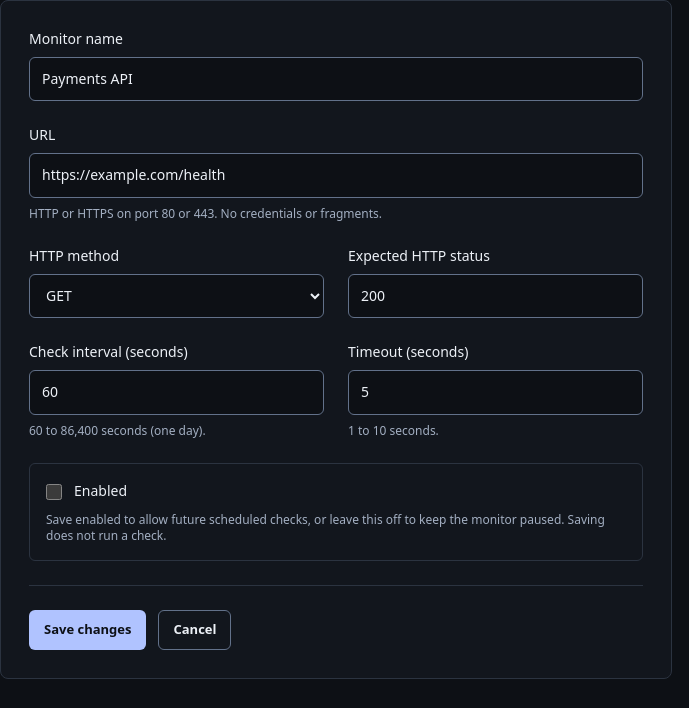
Test: explains quota failures without navigating or losing input
This screenshot has width=689, height=708.
What coordinates should you click on to do the following:
click the checkbox labelled "Enabled"
I would click on:
 (54, 492)
Its box is [46,484,62,500].
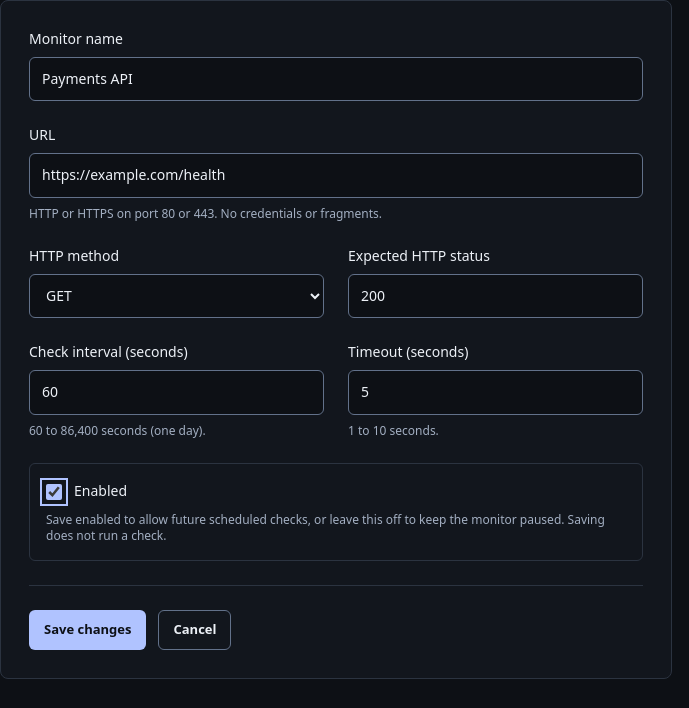
What coordinates should you click on to do the following:
click the button "Save changes"
I would click on:
 (88, 630)
Its box is [29,610,146,650].
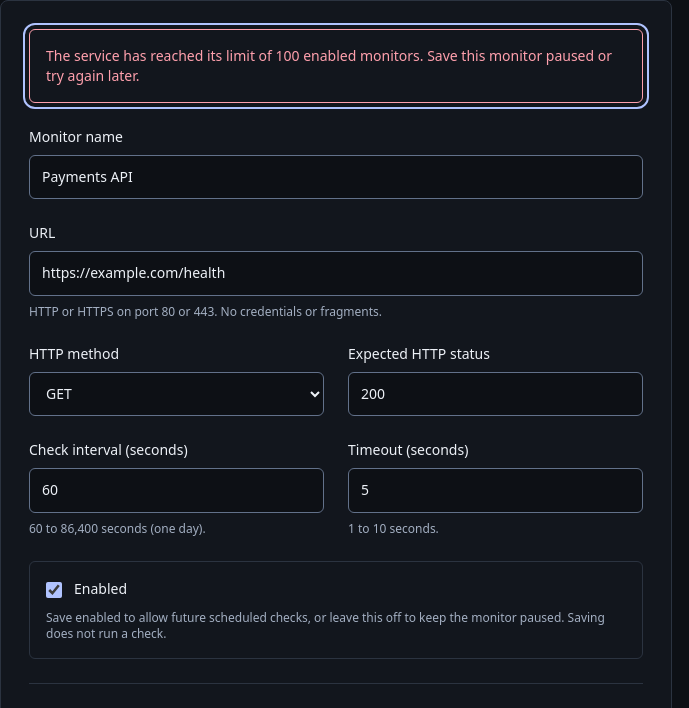
Expected: the message shows "100 enabled monitors", [46,46,612,85]
